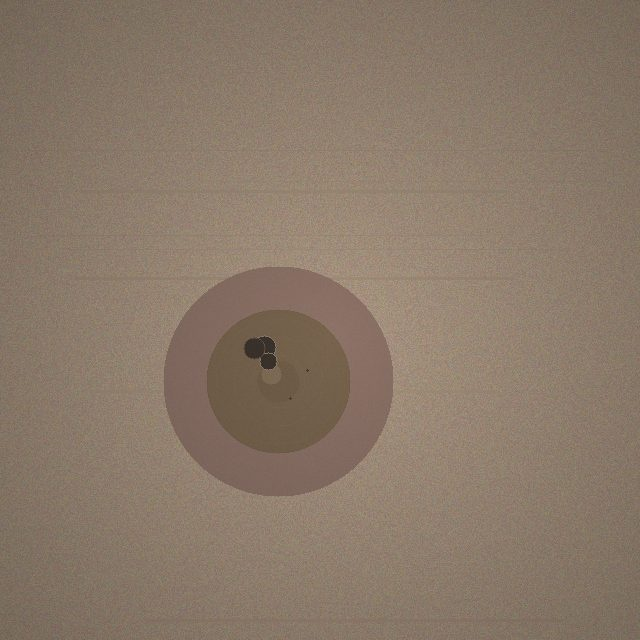shrinkage: (163, 266, 393, 496)
